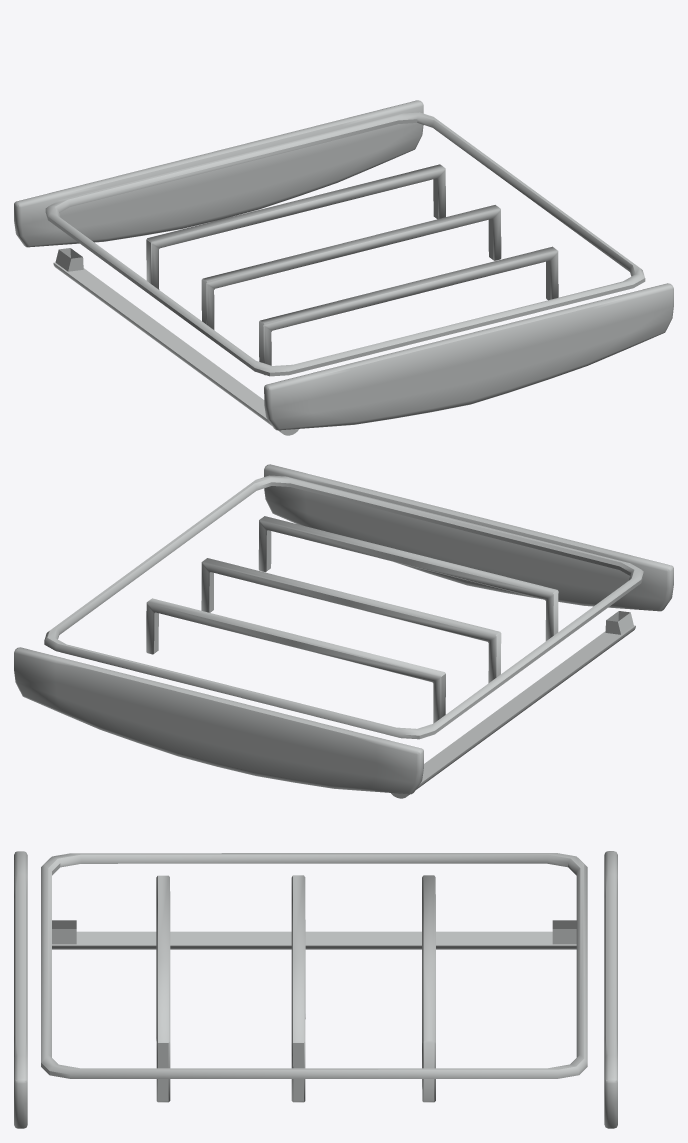
Rendered from MeshFridgeMaindoorA1_2_GeomSubset_1.obj.
The picture shows the model from 3 angles, top to bottom: view 1: azimuth 30°, elevation 25°; view 2: azimuth 150°, elevation 25°; view 3: azimuth 270°, elevation 25°; orthographic projection. The views are drawn at different scales.
Visible parts, largest first — view 1: MeshFridgeMaindoorA1_2_GeomSubset_1; view 2: MeshFridgeMaindoorA1_2_GeomSubset_1; view 3: MeshFridgeMaindoorA1_2_GeomSubset_1.
Part boxes in pixels (left/top/right/bottom): MeshFridgeMaindoorA1_2_GeomSubset_1: left=14, top=100, right=673, bottom=435; MeshFridgeMaindoorA1_2_GeomSubset_1: left=14, top=464, right=673, bottom=798; MeshFridgeMaindoorA1_2_GeomSubset_1: left=14, top=851, right=617, bottom=1128.
Size of the model in its own units: 1 by 0.4397 by 1.19.
